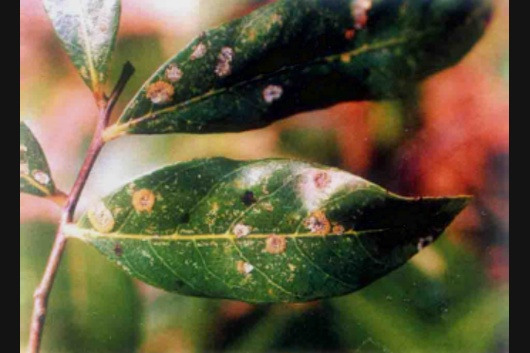Frost_Blight: (119, 162, 389, 251), (133, 7, 381, 91)
